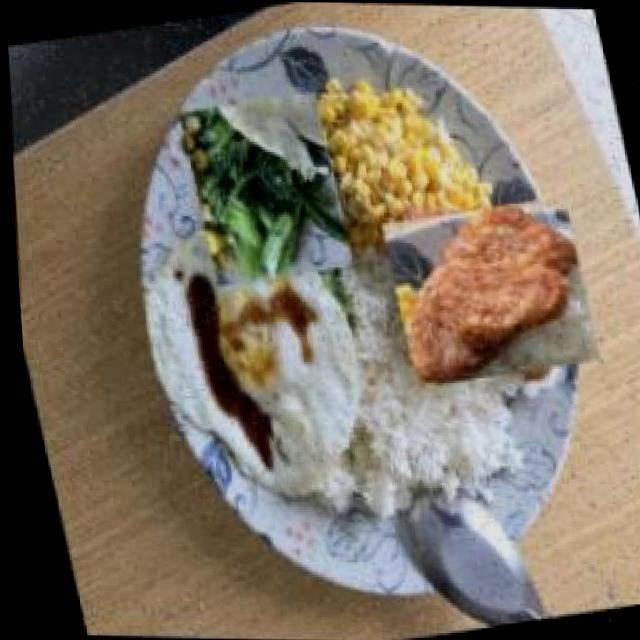fried_eggs: (119, 206, 385, 520)
rice: (336, 275, 497, 511)
triangle_hash_brown: (377, 187, 596, 396)
water_spinach: (175, 89, 355, 290)
